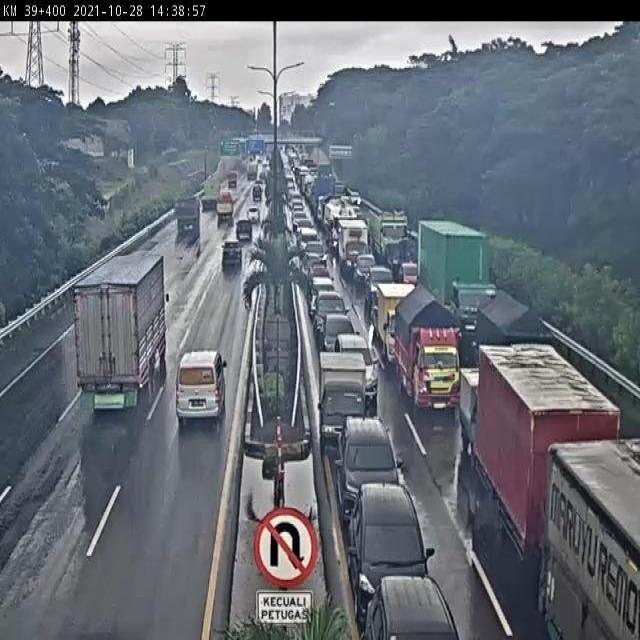big truck: (479, 345, 626, 595), (74, 251, 171, 416), (417, 220, 491, 341), (368, 206, 412, 262), (198, 177, 221, 215)
car: (349, 486, 436, 618), (335, 418, 399, 530), (363, 577, 460, 640), (174, 348, 228, 427), (335, 336, 380, 403), (319, 315, 360, 369), (312, 290, 350, 342), (367, 265, 395, 308), (309, 276, 334, 316), (300, 252, 323, 295), (297, 226, 319, 262), (220, 238, 244, 270), (355, 255, 376, 288), (234, 219, 253, 245), (244, 208, 260, 228)
small truck: (473, 290, 552, 414), (393, 287, 462, 416), (458, 365, 521, 468), (317, 348, 369, 449), (377, 283, 420, 369), (339, 220, 369, 276), (173, 197, 200, 235), (212, 192, 235, 228), (225, 173, 238, 192), (251, 185, 262, 200)
